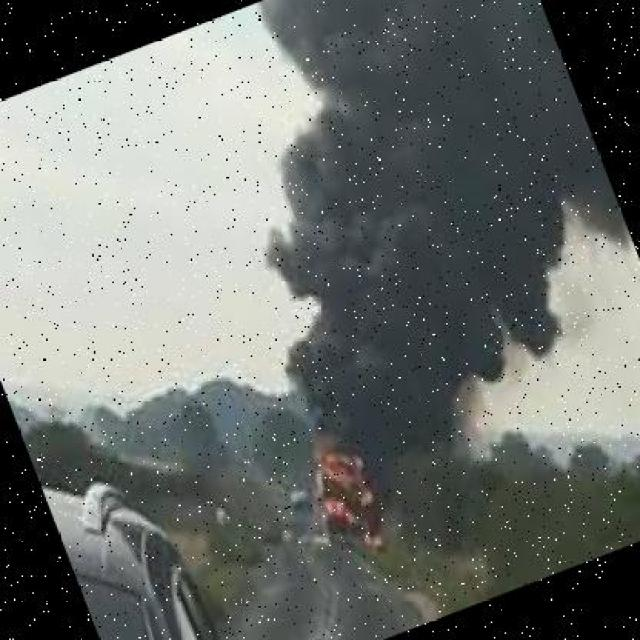fire: (286, 417, 405, 568)
